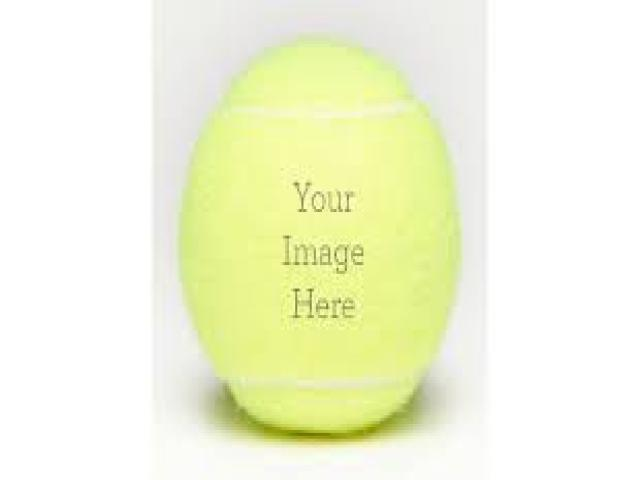tennis-ball: (176, 32, 460, 436)
